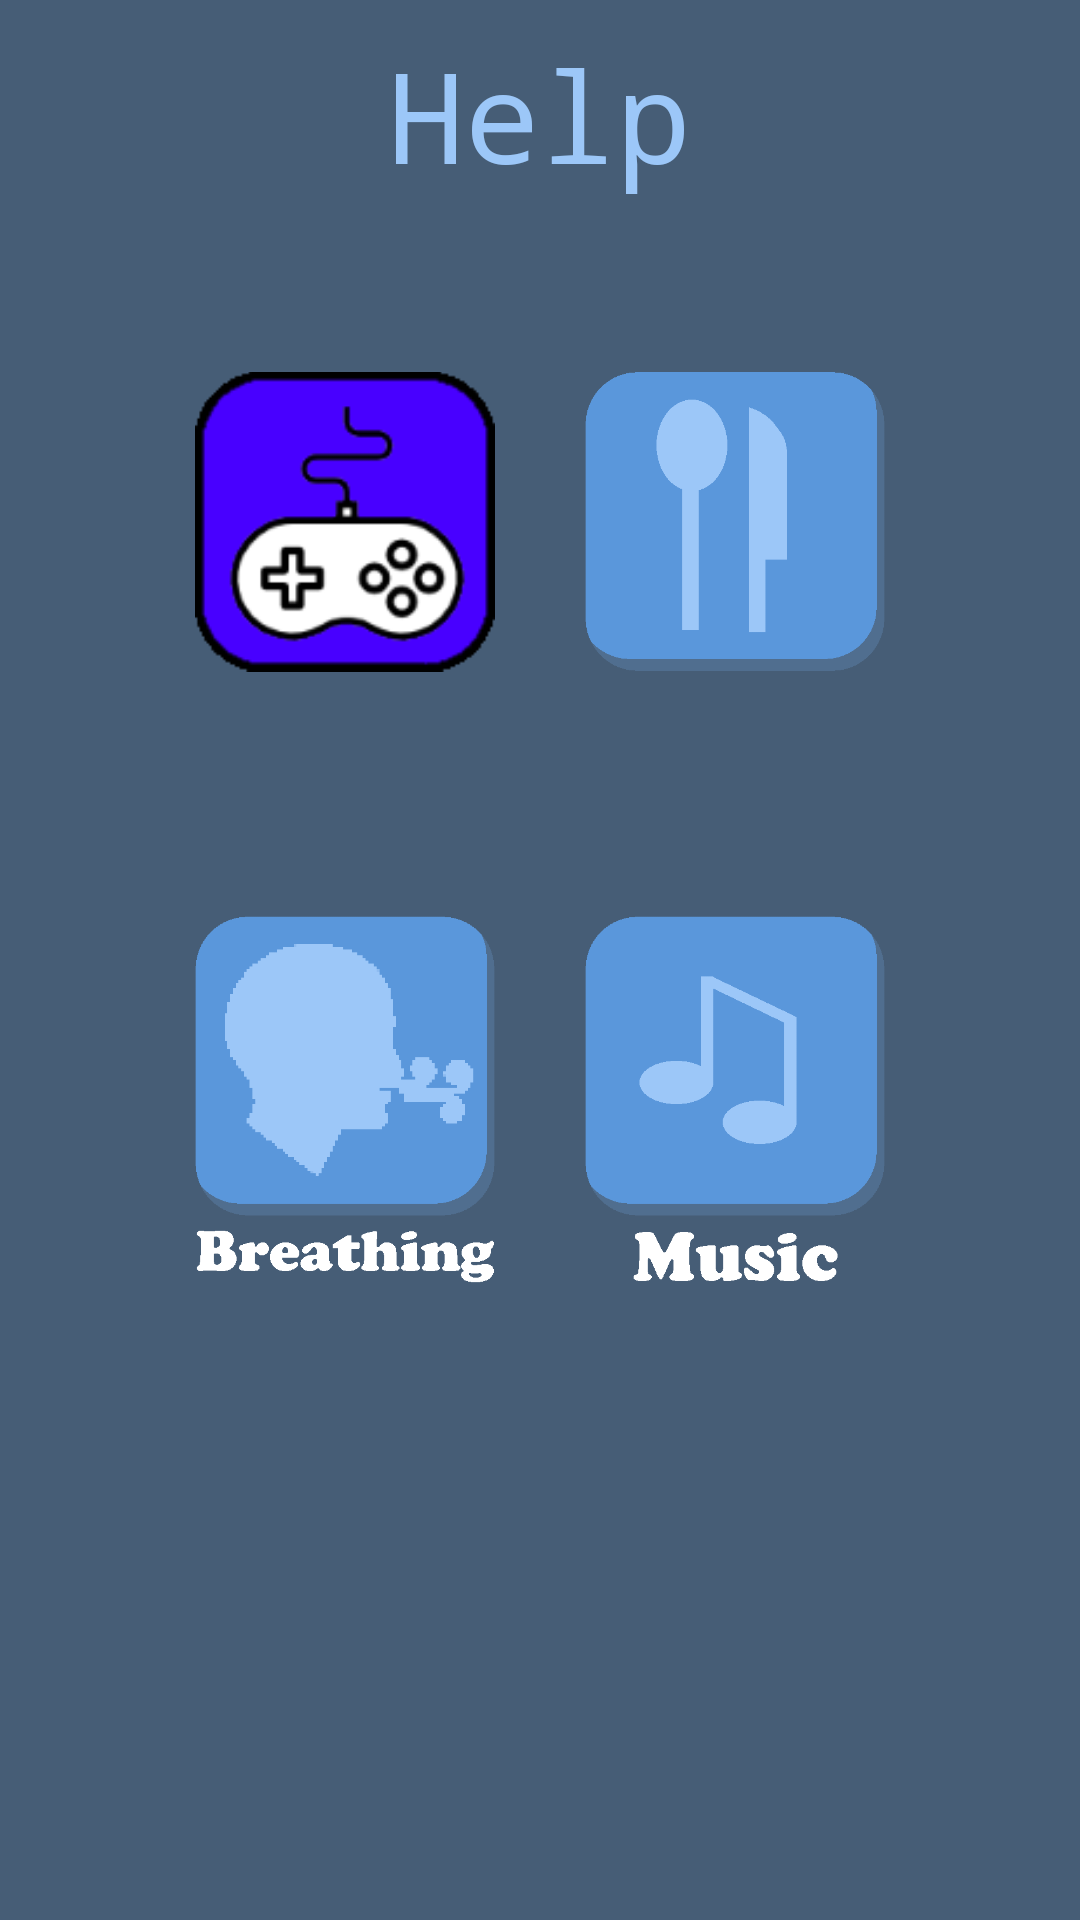

Where icons sit on this 1080px×1920px app screen, as [left=x1, top=y1, right=x2, bottom=y2]:
food: [left=585, top=372, right=884, bottom=671]
games: [left=195, top=372, right=495, bottom=672]
